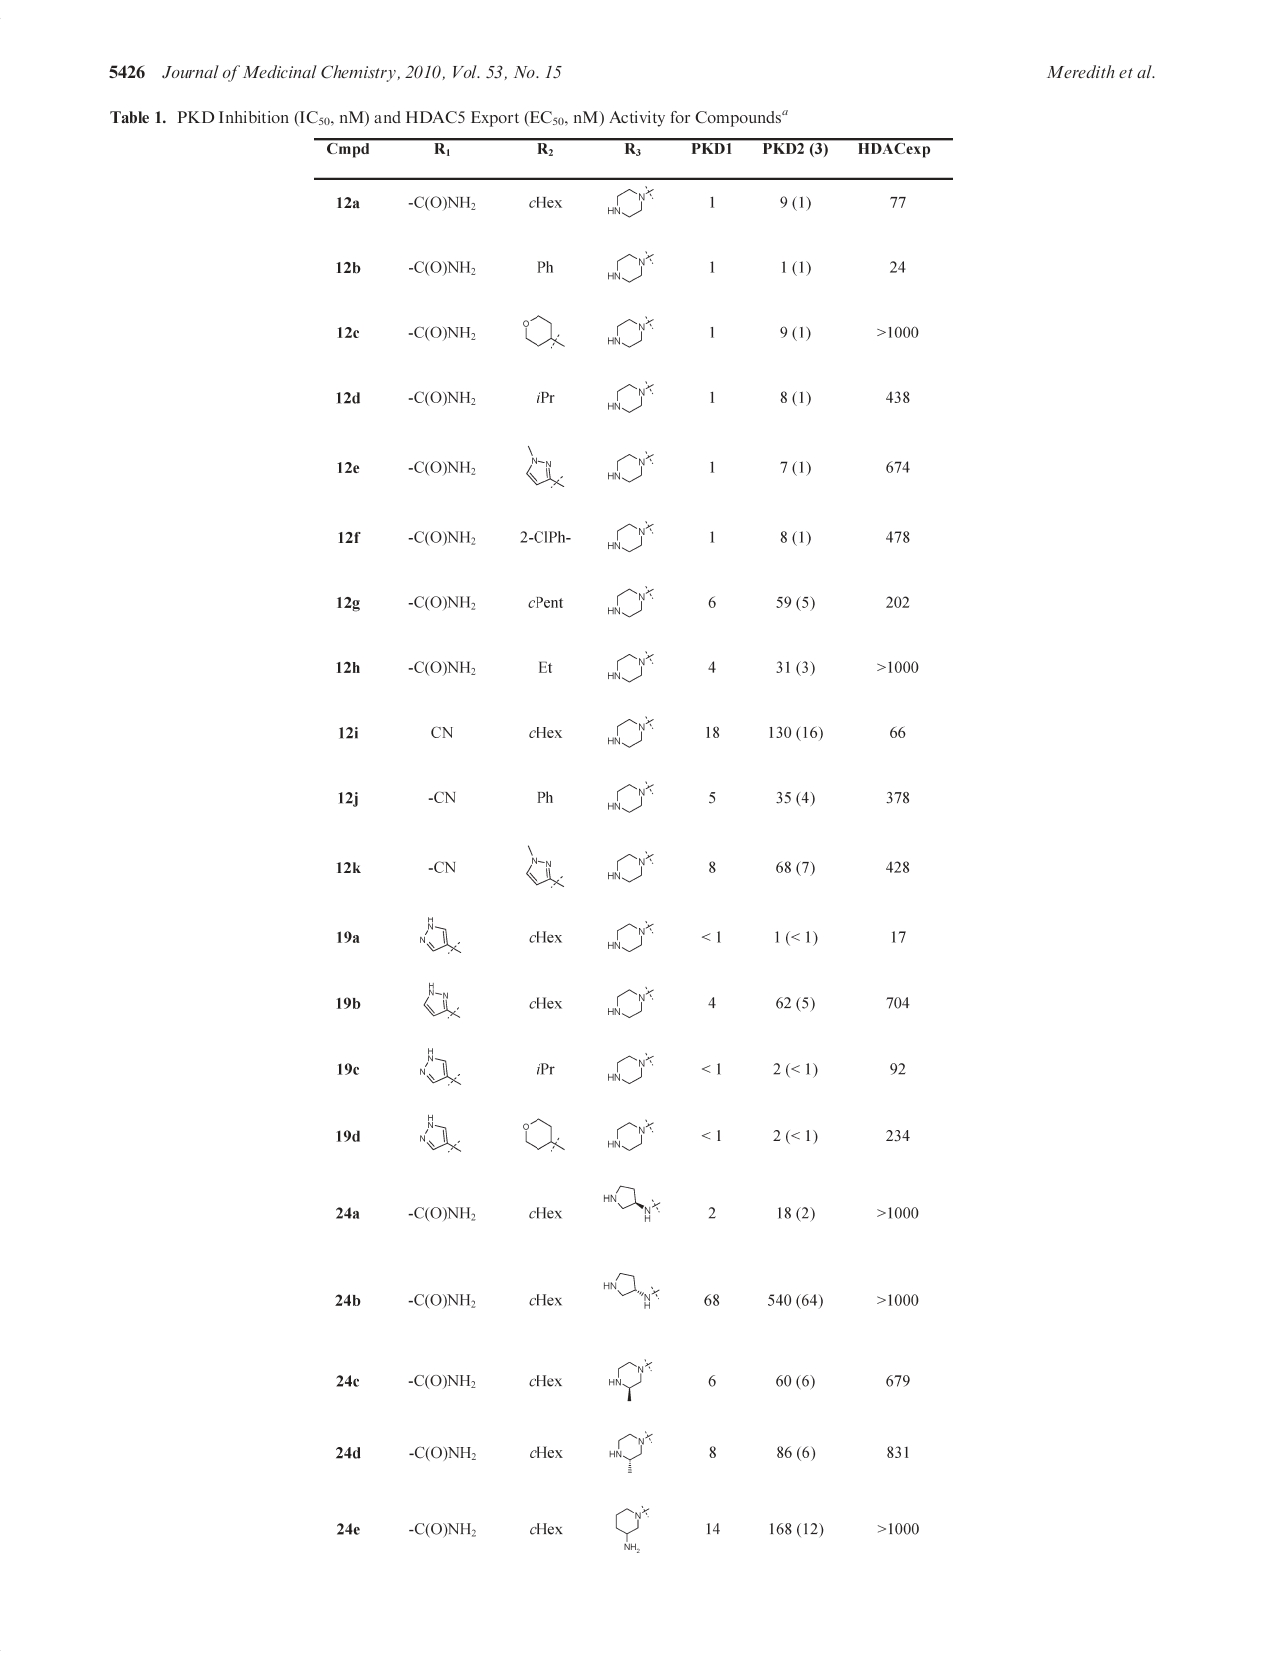exist_molecular: (600, 1267, 668, 1317), (602, 1423, 660, 1480), (598, 916, 668, 962), (604, 1182, 672, 1227), (418, 1106, 472, 1161), (523, 440, 574, 493), (598, 844, 661, 888), (600, 1113, 662, 1157), (605, 372, 662, 419), (602, 314, 668, 354), (602, 980, 656, 1028), (418, 914, 472, 960), (604, 1045, 656, 1093), (600, 447, 661, 487), (606, 775, 664, 818), (602, 184, 662, 223), (610, 1501, 653, 1557), (602, 652, 660, 693), (426, 1041, 475, 1089), (604, 717, 662, 757), (600, 517, 664, 553), (605, 580, 658, 622), (602, 247, 657, 289), (419, 977, 465, 1025), (604, 1356, 650, 1404), (520, 1112, 568, 1154), (525, 840, 563, 894), (523, 311, 564, 352)
